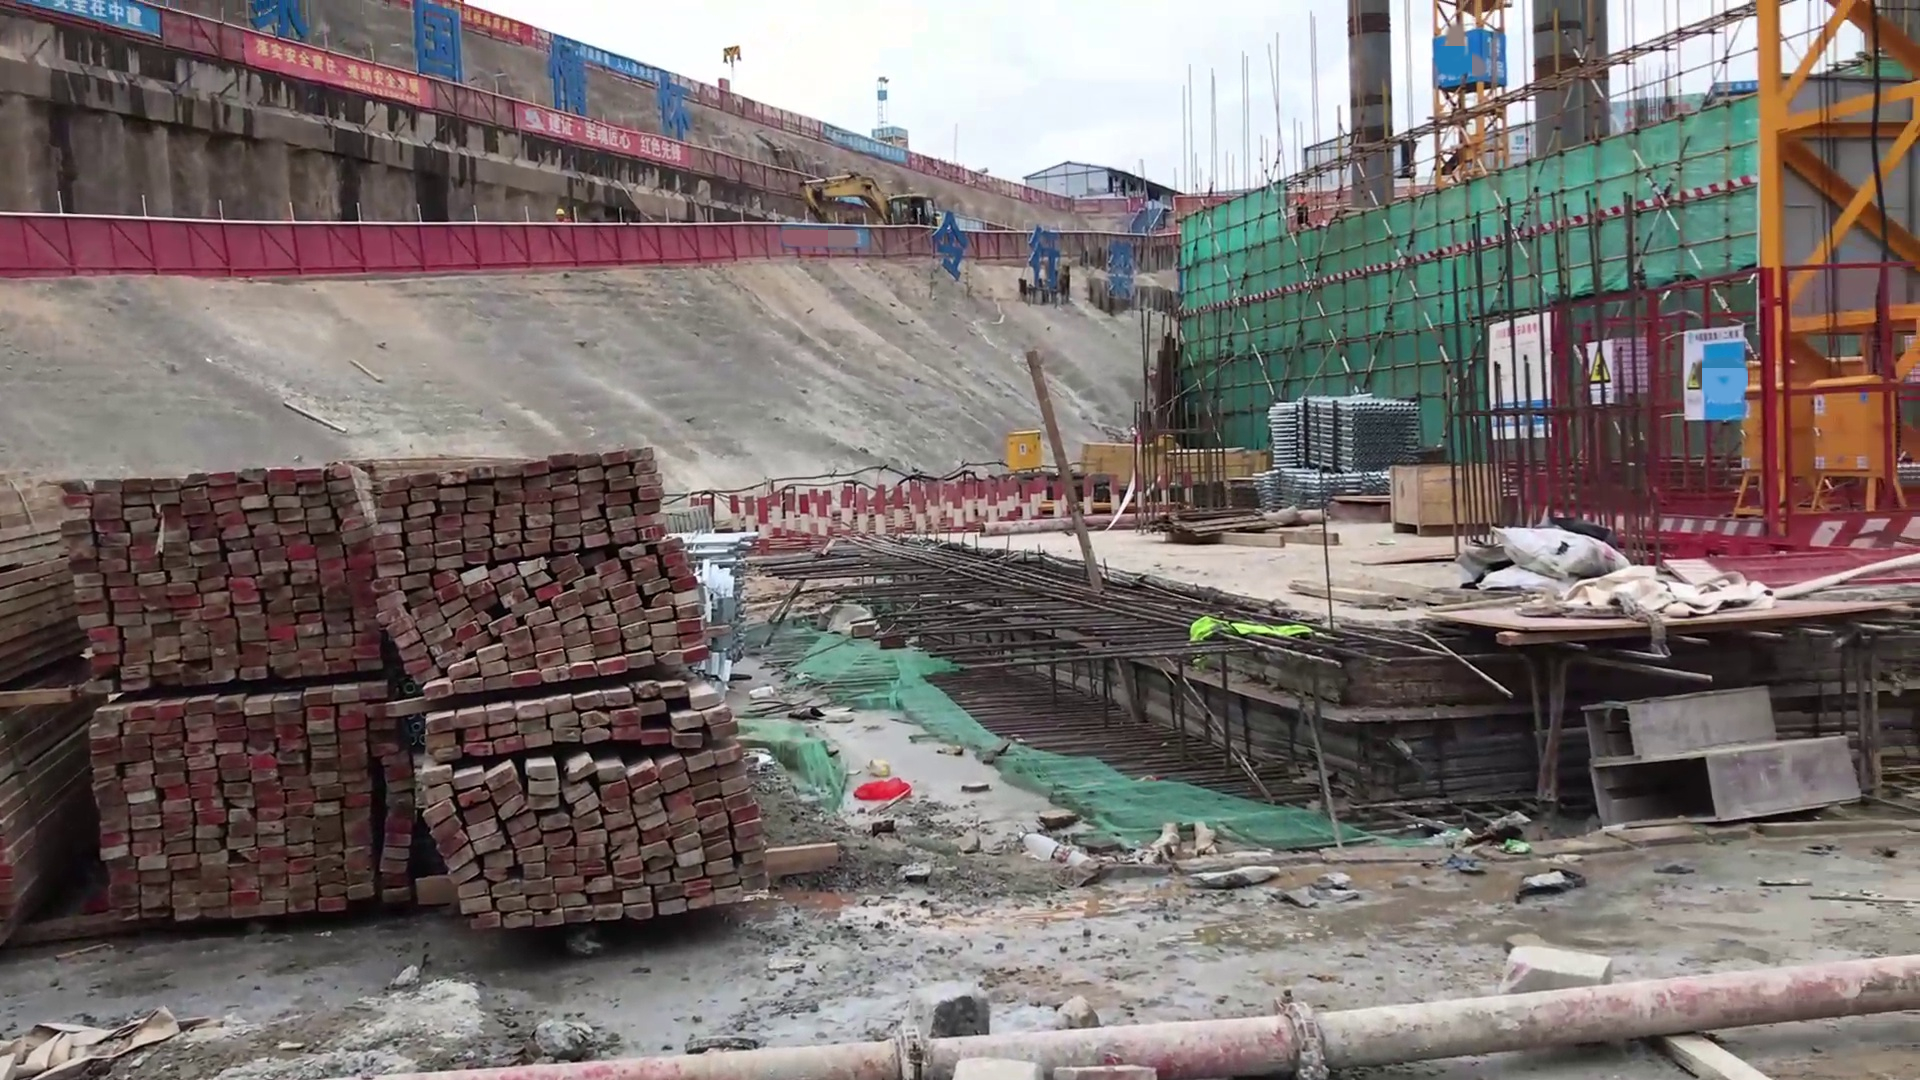ebox: (1816, 378, 1904, 517), (1738, 382, 1818, 527), (1004, 429, 1044, 473)
fence: (3, 204, 410, 284)
hook: (721, 45, 742, 70)
scaffold: (1274, 393, 1415, 475)
slogan: (229, 26, 434, 108), (508, 94, 698, 164), (1486, 297, 1563, 440), (1671, 316, 1759, 431), (51, 1, 181, 42), (1575, 339, 1626, 413)
wood: (388, 413, 767, 945), (45, 454, 397, 945), (1385, 458, 1495, 542), (1166, 438, 1266, 495)
